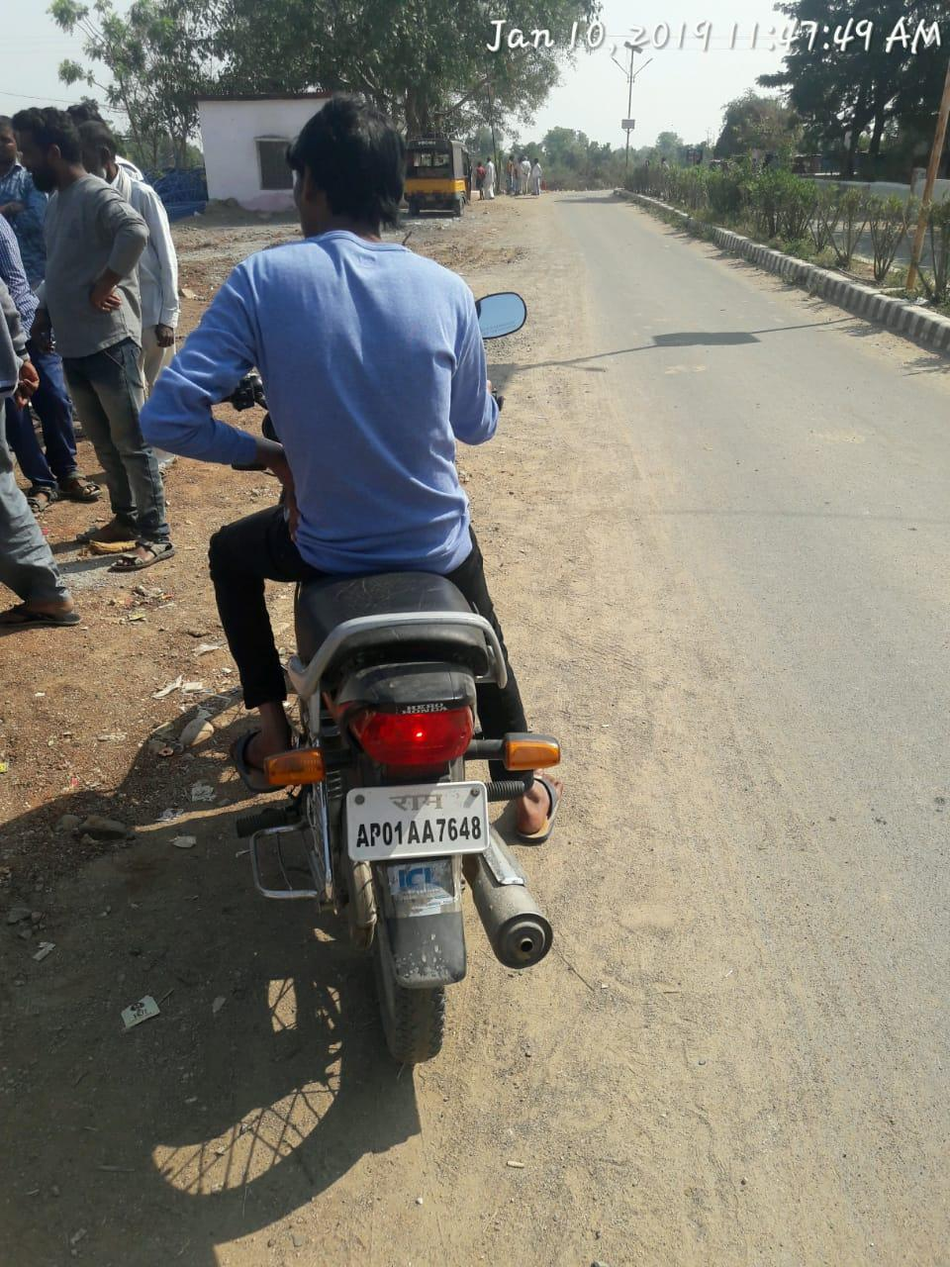plate: (336, 770, 496, 871)
